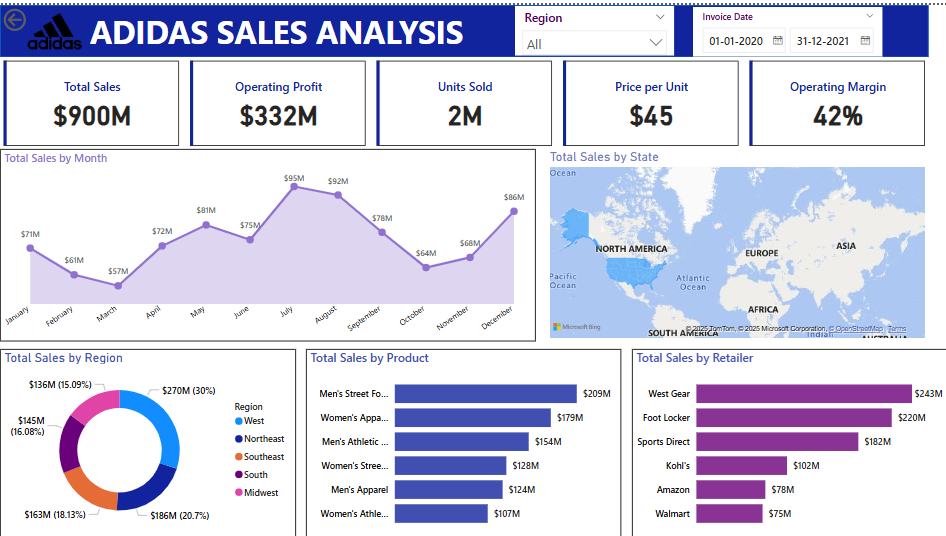

The dashboard page shown, as its layout file describes it:
{"tool":"powerbi","page":{"name":"Page 1","canvas":[1280,720],"ordinal":0},"visuals":[{"type":"shape","box":[0,0,1254.8,70.6],"z":0},{"type":"textbox","box":[115.9,1.7,539.2,67.2],"z":1000},{"type":"cardVisual","fields":{"Data":["Sum(Data Sales Adidas.Total Sales)","Sum(Data Sales Adidas.Operating Profit)","Sum(Data Sales Adidas.Units Sold)","Avg(Data Sales Adidas.Price per Unit)","Avg(Data Sales Adidas.Operating Margin)"]},"box":[0,70.4,1255.4,125],"z":2000},{"type":"areaChart","title":"Total Sales by Month","fields":{"Category":["Data Sales Adidas.Invoice Date.Variation.Date Hierarchy.Month"],"Y":["Sum(Data Sales Adidas.Total Sales)"]},"box":[0,194.6,724.4,260.5],"z":3000},{"type":"filledMap","title":"Total Sales by State","fields":{"Category":["Data Sales Adidas.State"]},"box":[737.6,194.6,516.6,260.5],"z":4000},{"type":"actionButton","box":[0,0,100,40],"z":5000},{"type":"donutChart","title":"Total Sales by Region","fields":{"Category":["Data Sales Adidas.Region"],"Y":["Sum(Data Sales Adidas.Total Sales)"]},"box":[0,465.4,400,254.6],"z":5001},{"type":"barChart","title":"Total Sales by Product","fields":{"Category":["Data Sales Adidas.Product"],"Y":["Sum(Data Sales Adidas.Total Sales)"]},"box":[414.1,465.4,425.9,254.6],"z":5002},{"type":"barChart","title":"Total Sales by Retailer","fields":{"Y":["Sum(Data Sales Adidas.Total Sales)"],"Category":["Data Sales Adidas.Retailer"]},"box":[854.6,465.4,425.9,254.6],"z":5003},{"type":"slicer","fields":{"Values":["Data Sales Adidas.Region"]},"box":[696.6,1.5,215.1,67.3],"z":5004},{"type":"slicer","fields":{"Values":["Data Sales Adidas.Invoice Date"]},"box":[936.6,2.9,256.1,67.3],"z":5005},{"type":"image","box":[32.2,0,83.4,70.2],"z":5006}]}

Visuals, with their boxes in screenshot pixels (x1, y1, x2, y2), scaled from the page's 1280x720 canvas onto the 946x536 screenshot:
shape: select_region(0, 0, 927, 53)
textbox: select_region(86, 1, 484, 51)
cardVisual - Sum(Data Sales Adidas.Total Sales) x Sum(Data Sales Adidas.Operating Profit): select_region(0, 52, 928, 145)
"Total Sales by Month" areaChart: select_region(0, 145, 535, 339)
"Total Sales by State" filledMap: select_region(545, 145, 927, 339)
actionButton: select_region(0, 0, 74, 30)
"Total Sales by Region" donutChart: select_region(0, 346, 296, 535)
"Total Sales by Product" barChart: select_region(306, 346, 621, 535)
"Total Sales by Retailer" barChart: select_region(632, 346, 945, 535)
slicer - Data Sales Adidas.Region: select_region(515, 1, 674, 51)
slicer - Data Sales Adidas.Invoice Date: select_region(692, 2, 881, 52)
image: select_region(24, 0, 85, 52)
